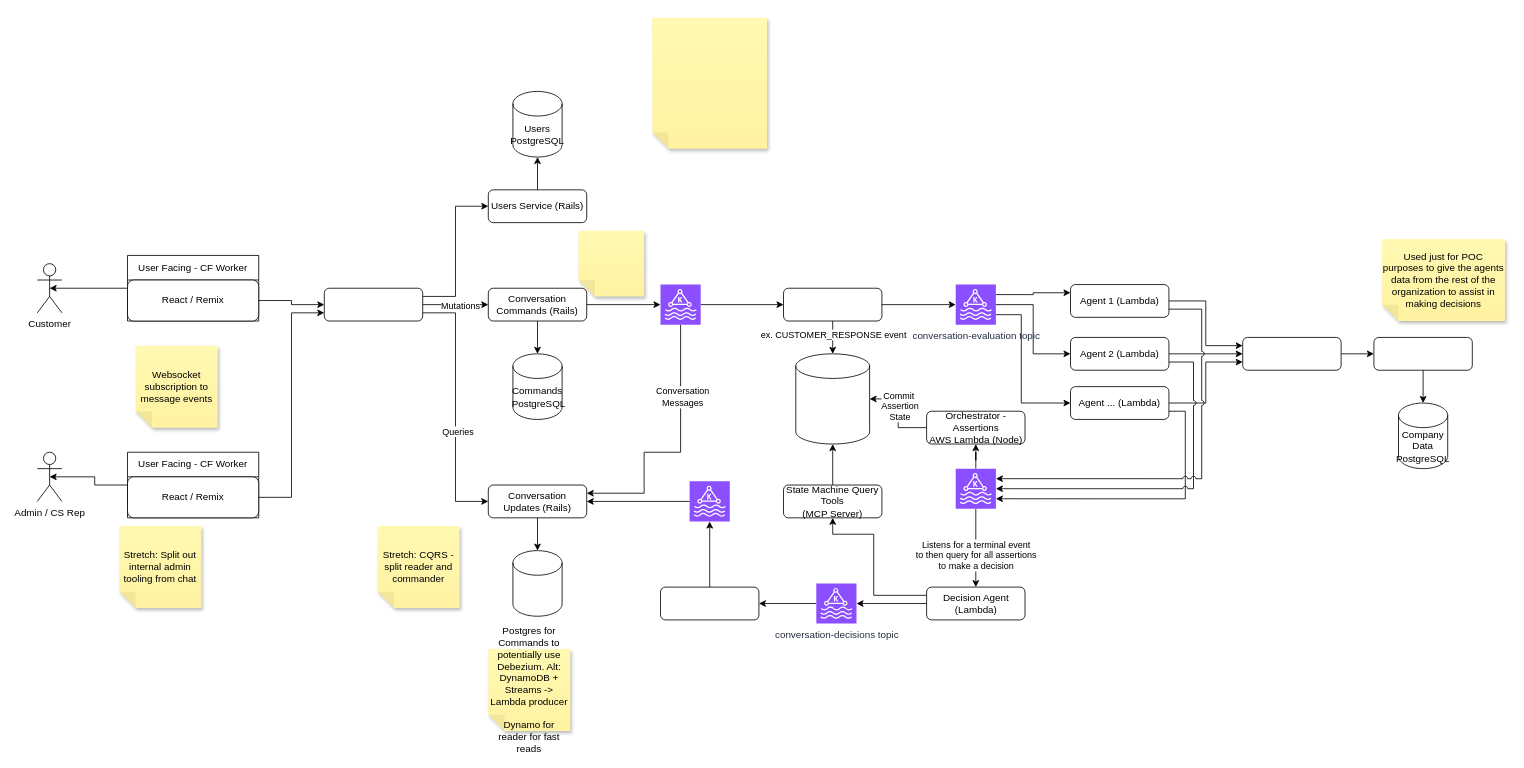
The diagram is 1524 pixels wide and 768 high, and some of its shapes have lost their labels. The shapes that lost their labels are listed below. From the top down, each one's centre as x and y in pixels, then its label:
point (710, 84): New message received event -> trigger agent orchestration
point (612, 264): Stretch: Outbox pattern using Debezium
point (373, 304): GraphQL
point (680, 304): conversation-commands topic
point (832, 304): Orchestrator - Actions AWS Lambda (Node)
point (1291, 353): Data Fetching Tools (MCP Server)
point (1422, 353): Company Data & Actions Monolith
point (832, 398): Conversation Evaluation States PostgreSQL
point (709, 501): conversation-replies topic
point (975, 488): conversation-assertions topic
point (537, 583): Conversations DynamoDB
point (709, 603): Responder AWS Lambda (Node)
